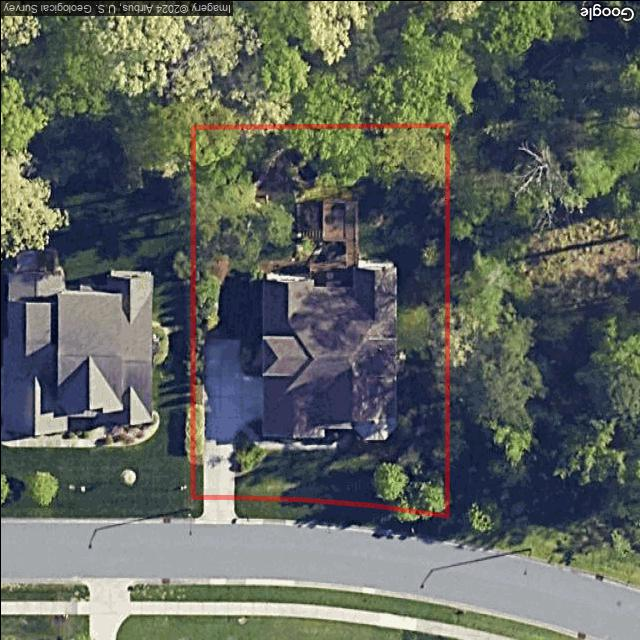Driveway: (198, 339, 260, 497)
Extra-Driveway: (201, 497, 235, 517)
Extra-Lawn: (234, 496, 447, 537), (190, 497, 203, 516)
House: (258, 263, 395, 440)
Lawn: (191, 124, 448, 515)
Other: (291, 198, 359, 284), (234, 429, 267, 475)
Sidewalk: (238, 422, 353, 449)
